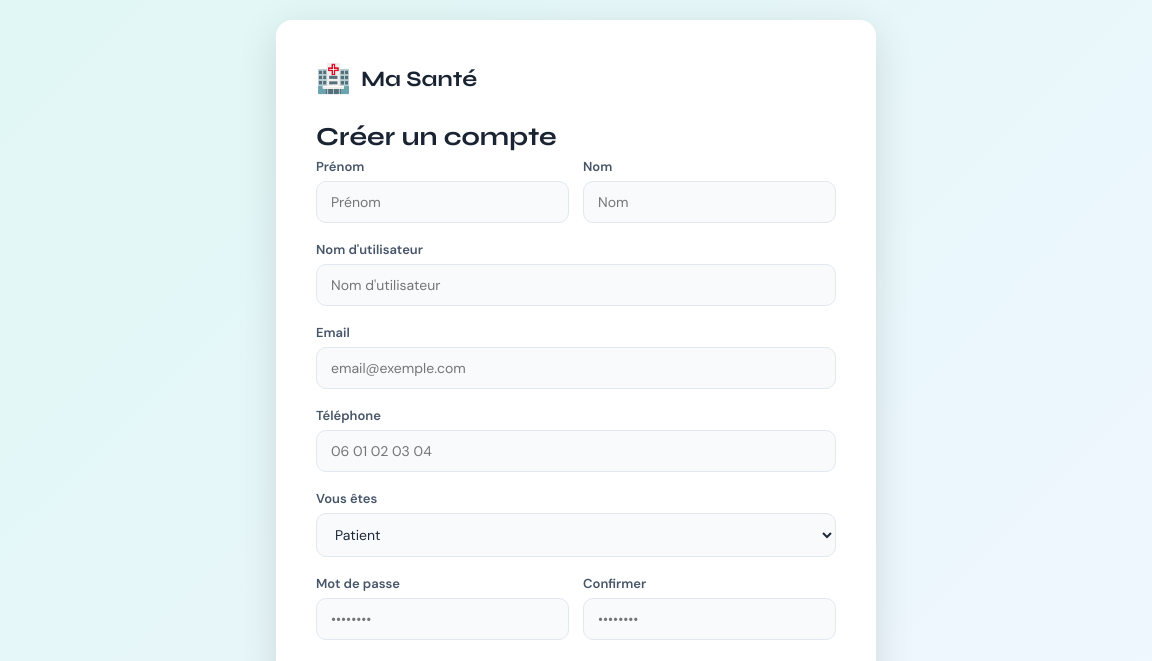
Test: shows doctor fields when role is doctor
The width and height of the screenshot is (1152, 661).
Select "Médecin" in the dropdown at (576, 535), box [316,513,836,557]
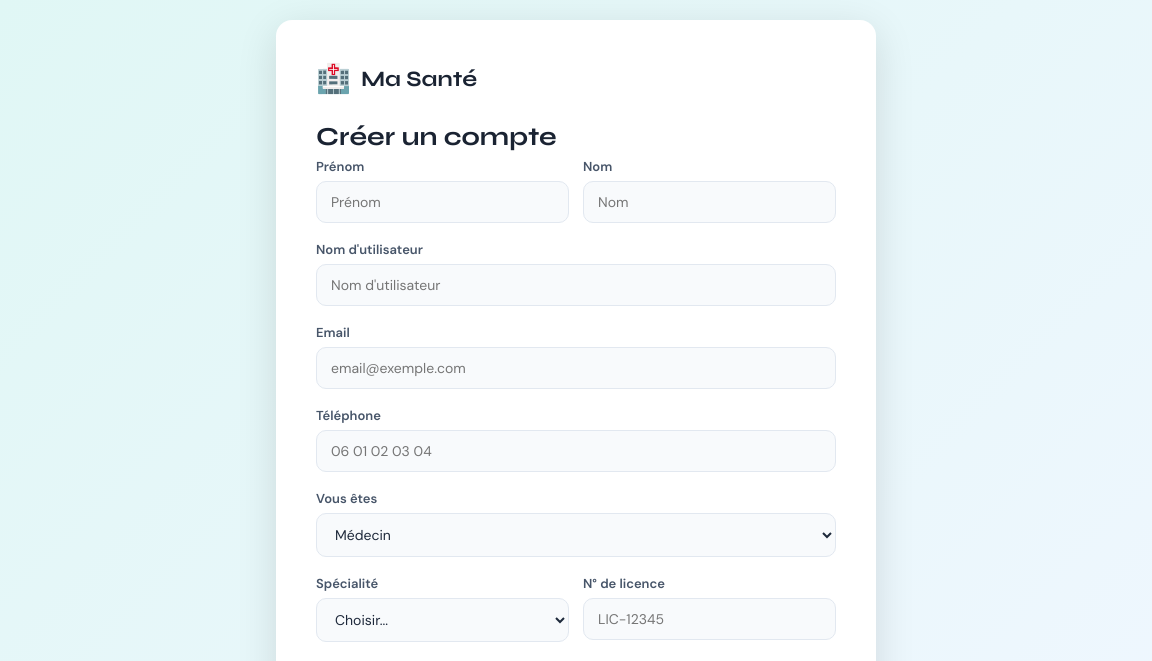
Expected: the text "Spécialité" is shown, [316,575,378,592]
Expected: the text "N° de licence" is shown, [583,575,665,592]
